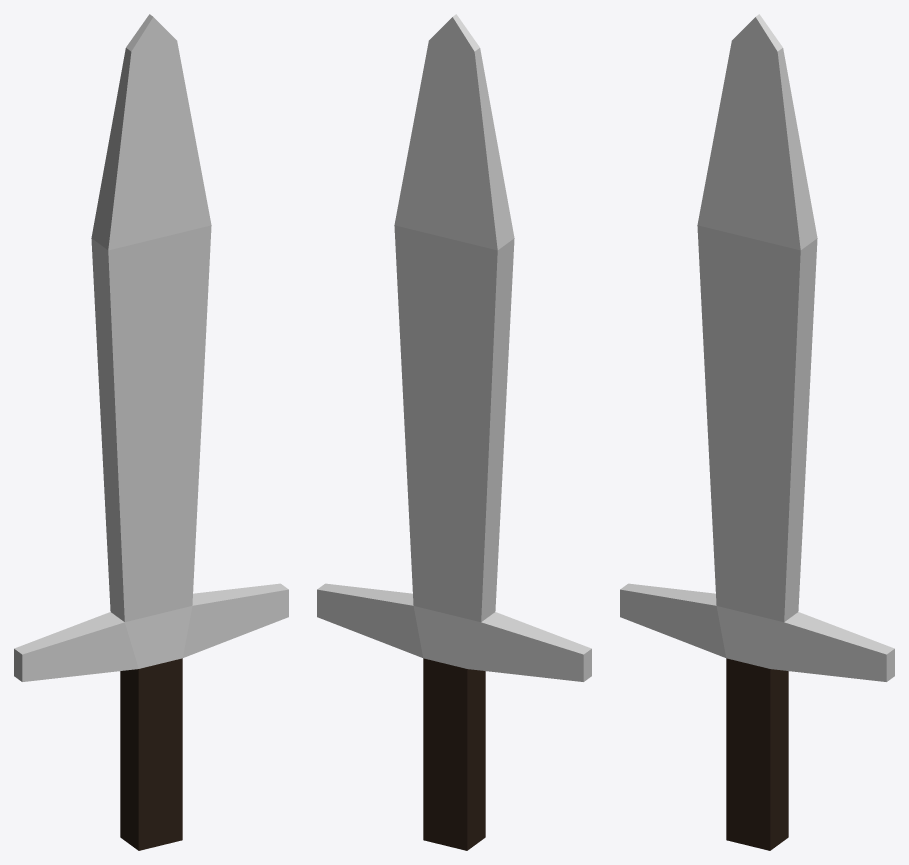
The model's file is Sword.gltf.
3 views of the same model, side by side, from view 1: azimuth 30°, elevation 25°; view 2: azimuth 150°, elevation 25°; view 3: azimuth 330°, elevation 25° (orthographic).
Visible parts, largest first — view 1: Sword; view 2: Sword; view 3: Sword.
Part boxes in pixels (box(x1,y1,x2,y2)): Sword: box(14, 14, 288, 850); Sword: box(317, 14, 591, 850); Sword: box(620, 14, 894, 850).
Bounding box in the file's own units: 0.2669 × 0.7876 × 0.0321.
